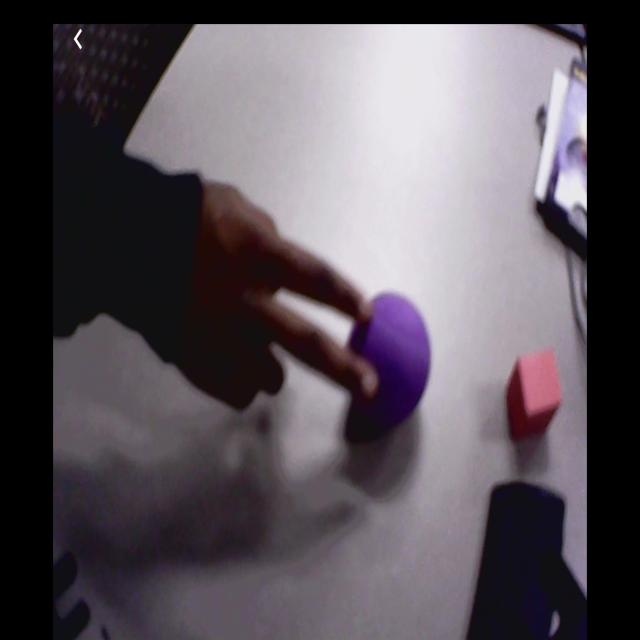ball: (347, 294, 431, 420)
